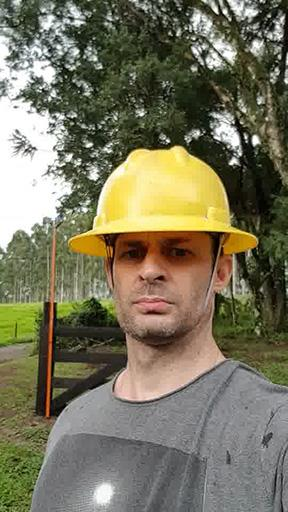Vara_Manobra: (44, 231, 58, 417)
